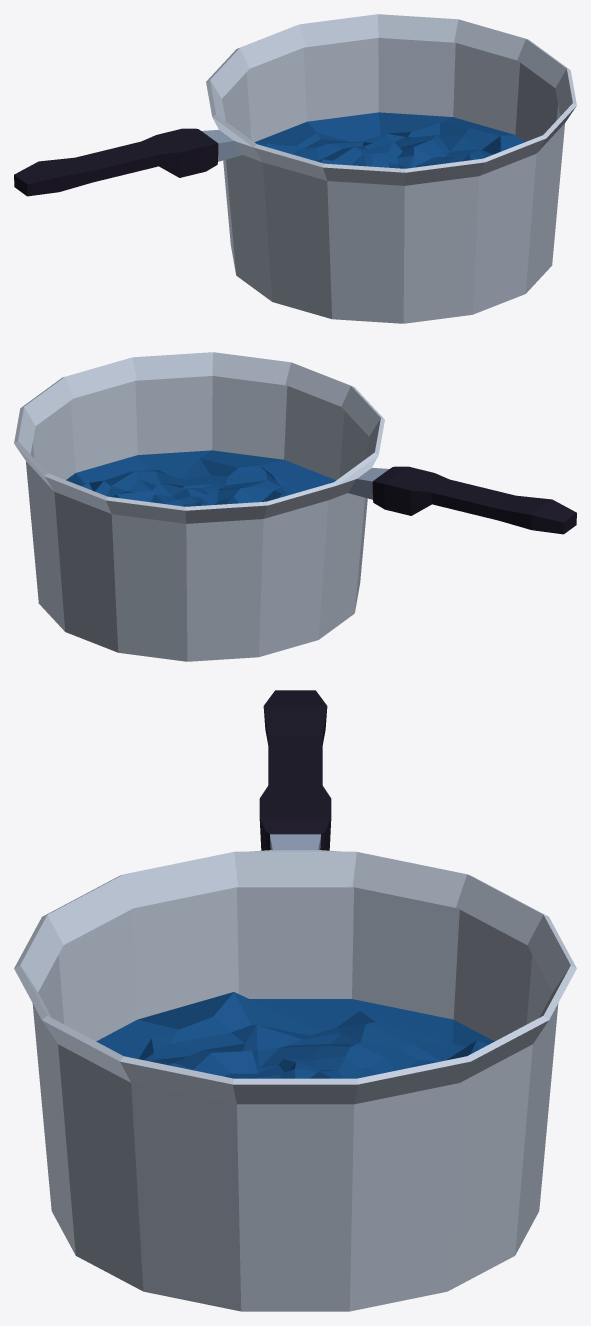
Rendered from saucepan.glb.
3 renders of one model, top to bottom at view 1: azimuth 30°, elevation 25°; view 2: azimuth 150°, elevation 25°; view 3: azimuth 270°, elevation 25°, orthographic. The views are drawn at different scales.
Parts seen in each view (by area): view 1: Circle; view 2: Circle; view 3: Circle.
Part boxes in pixels (bbox=[...]): Circle: bbox=[14, 14, 576, 323]; Circle: bbox=[14, 352, 576, 661]; Circle: bbox=[14, 690, 576, 1311].
Size of the model in its own units: 0.6554 by 0.2008 by 0.4025.
1 material, 1 textured.
